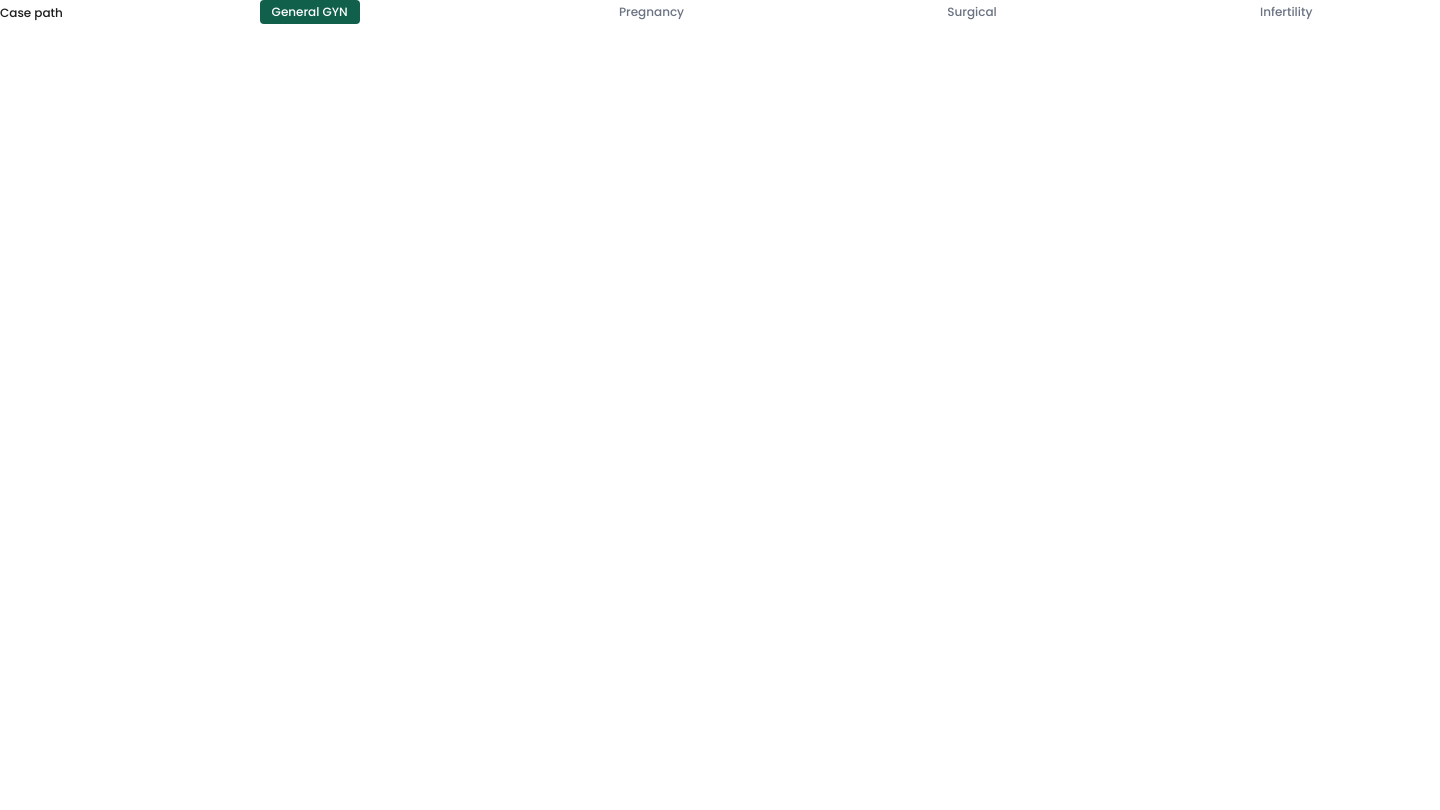
Test: CasePathInput › opens coming-soon dialog when clicking Surgical
Click the button "Surgical".
click(972, 12)  # box [943,4,1001,20]
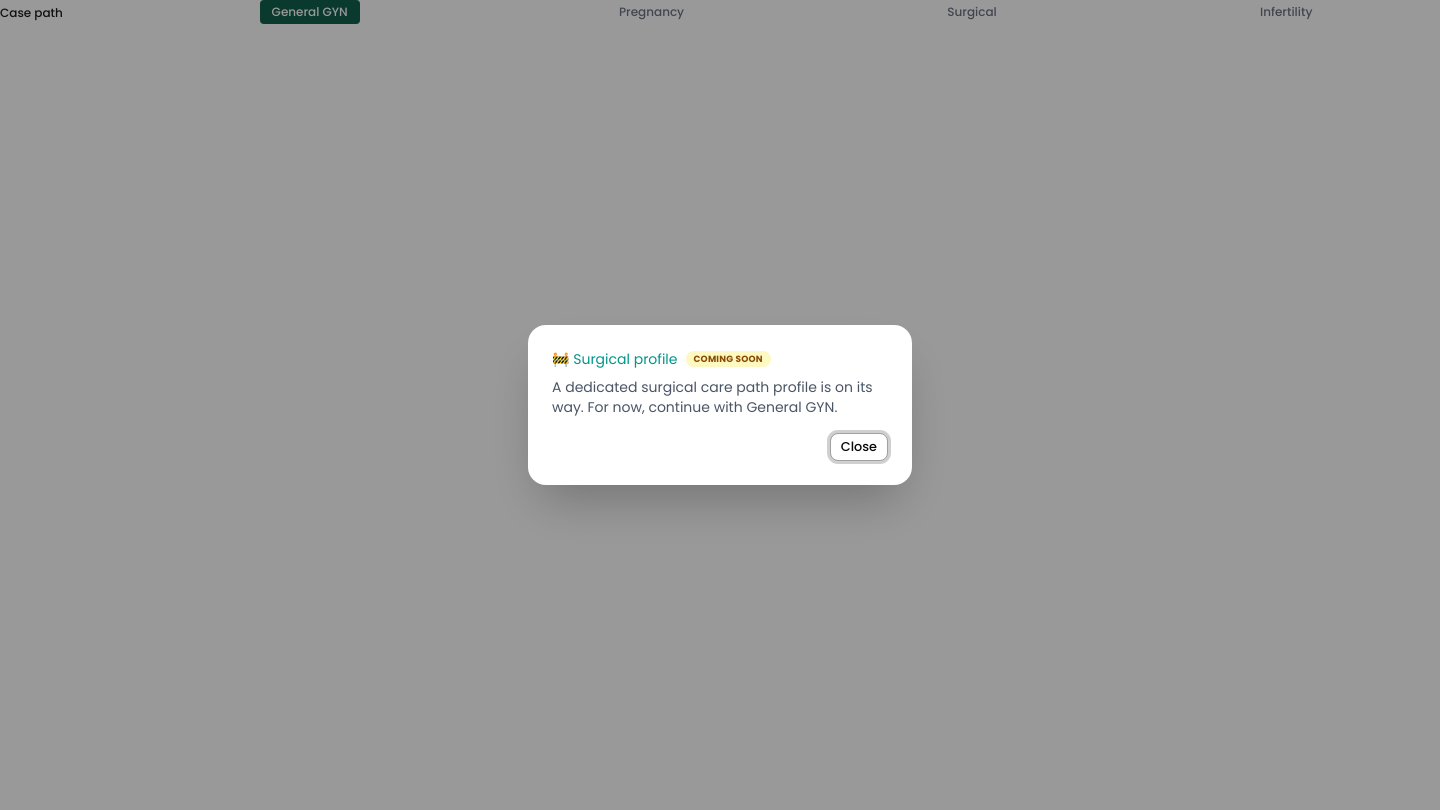
expect the text "Coming soon" is shown: met, box [686,351,771,367]
